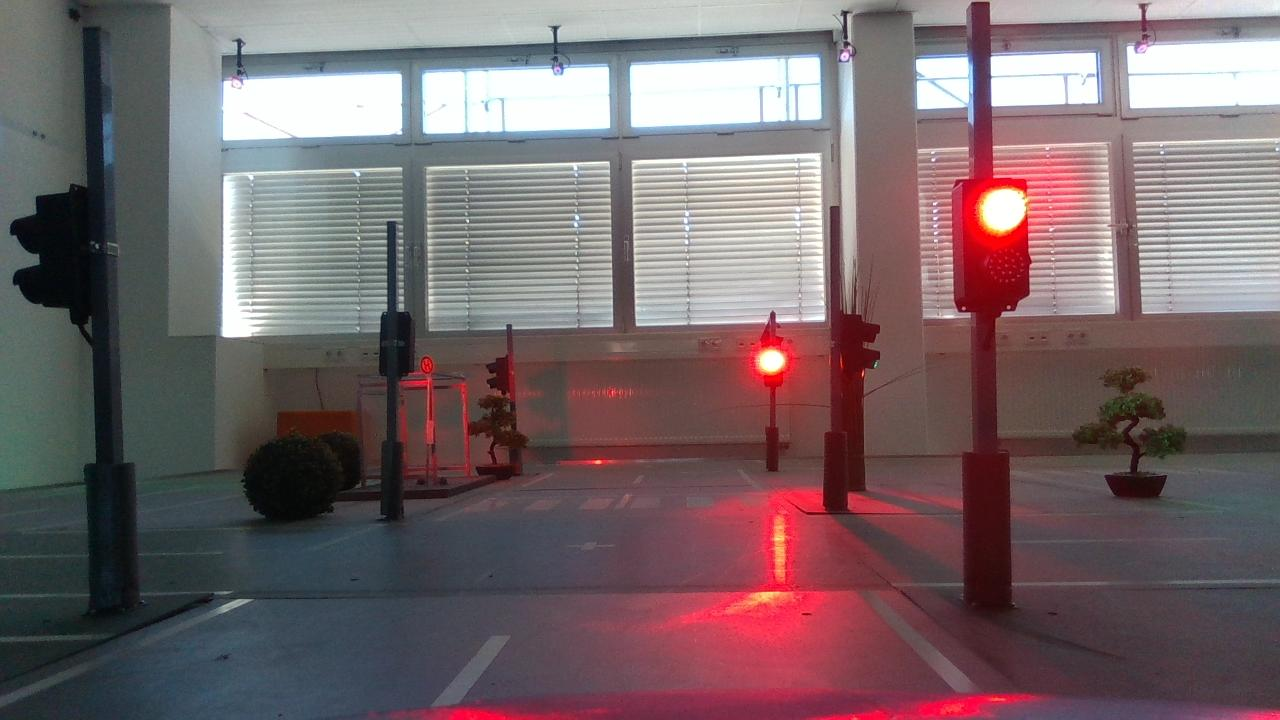traffic_light_red: (936, 163, 1042, 316)
